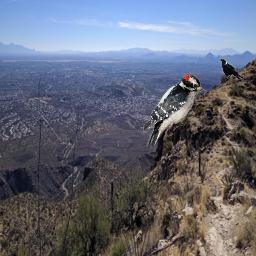Crow: (220, 58, 244, 80)
Woodpecker: (143, 75, 208, 150)
